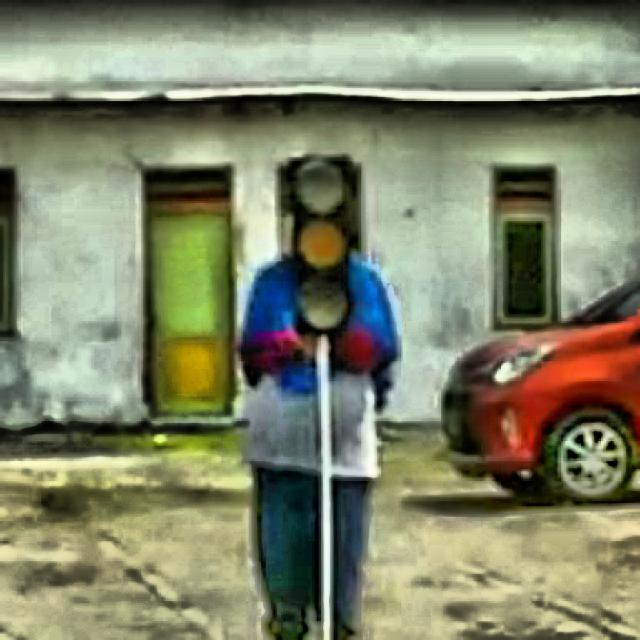yellow: (291, 158, 354, 336)
